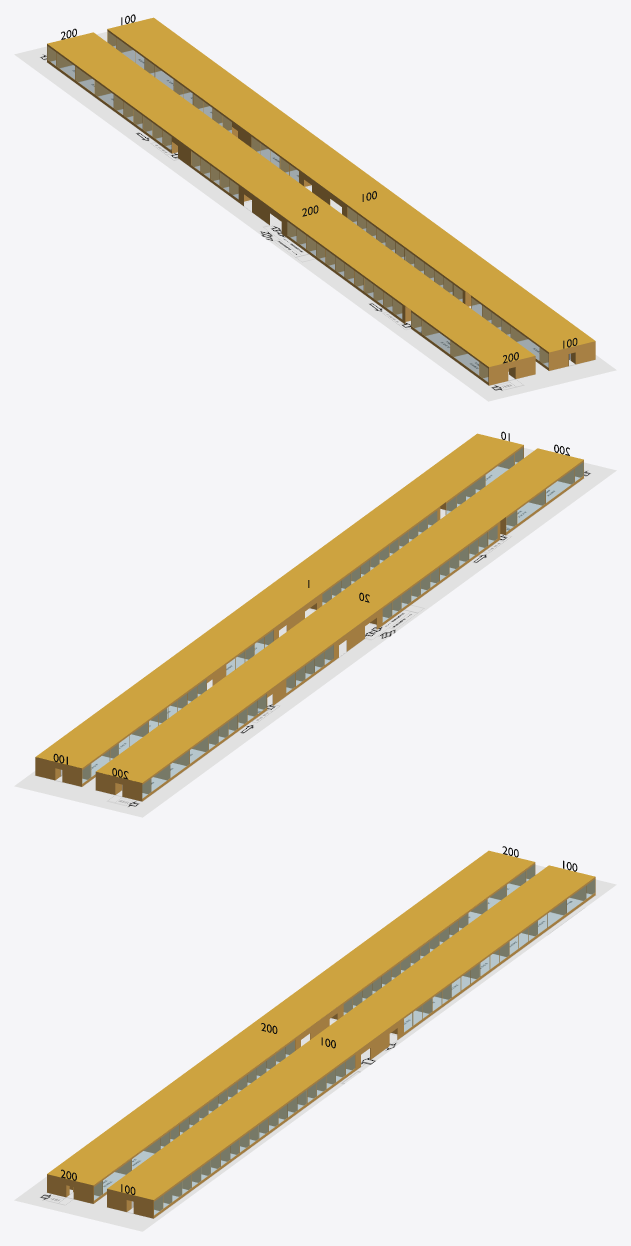
The picture shows the model from 3 angles, top to bottom: view 1: azimuth 30°, elevation 25°; view 2: azimuth 150°, elevation 25°; view 3: azimuth 330°, elevation 25°; orthographic projection.
Parts seen in each view (by area): view 1: Plane.004, Screenshot from 2023-01-05 18-33-55, Cube.003, Plane, Plane.001, Plane.002; view 2: Plane.004, Screenshot from 2023-01-05 18-33-55, Cube.003, Plane, Plane.001, Plane.002; view 3: Plane.004, Cube.003, Screenshot from 2023-01-05 18-33-55, Plane, Plane.001, Plane.002.
Part boxes in pixels (left/top/right/bottom): Plane.004: left=47, top=17, right=595, bottom=366; Screenshot from 2023-01-05 18-33-55: left=14, top=32, right=616, bottom=401; Cube.003: left=47, top=32, right=548, bottom=381; Plane: left=47, top=44, right=535, bottom=385; Plane.001: left=107, top=29, right=595, bottom=370; Plane.002: left=116, top=38, right=575, bottom=366; Plane.004: left=36, top=433, right=583, bottom=782; Screenshot from 2023-01-05 18-33-55: left=14, top=448, right=616, bottom=817; Cube.003: left=82, top=448, right=583, bottom=797; Plane: left=95, top=460, right=583, bottom=801; Plane.001: left=35, top=445, right=523, bottom=786; Plane.002: left=55, top=454, right=513, bottom=779; Plane.004: left=47, top=850, right=595, bottom=1200; Cube.003: left=94, top=865, right=594, bottom=1214; Screenshot from 2023-01-05 18-33-55: left=14, top=864, right=616, bottom=1231; Plane: left=47, top=862, right=535, bottom=1203; Plane.001: left=107, top=877, right=595, bottom=1218; Plane.002: left=126, top=886, right=585, bottom=1211.
Size of the model in its own units: 120 by 24.95 by 766.
Materials: 149 (1 with a texture image).
